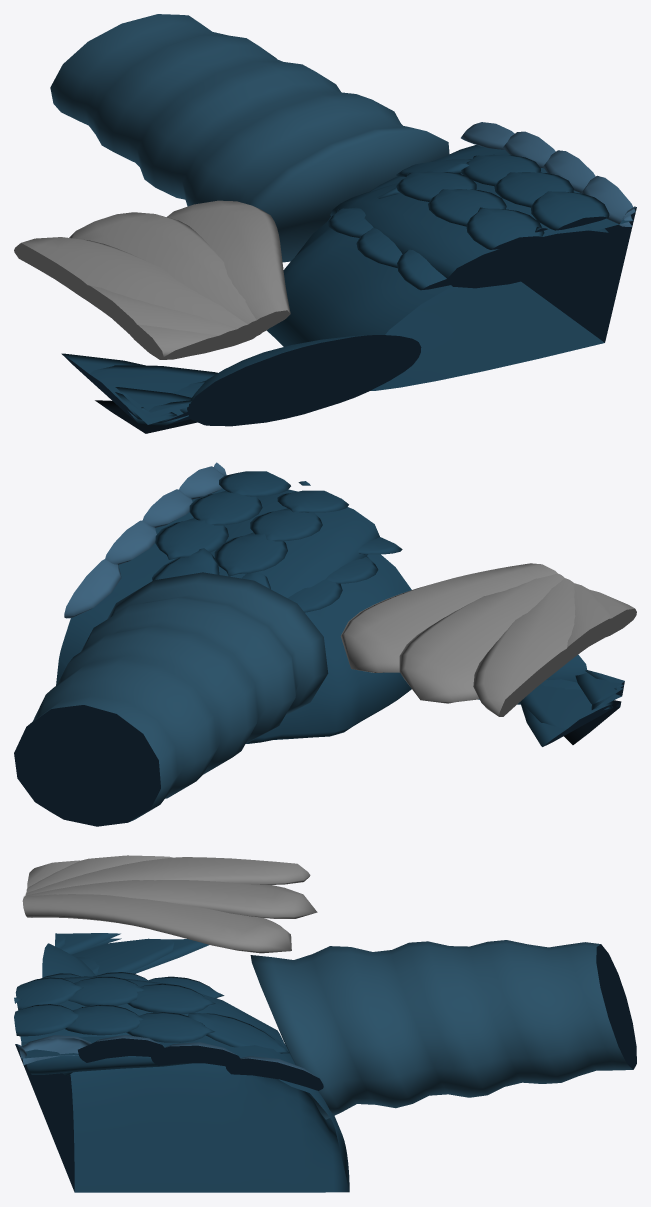
The model's file is gryphon_45.glb.
The picture shows the model from 3 angles, top to bottom: view 1: azimuth 30°, elevation 25°; view 2: azimuth 150°, elevation 25°; view 3: azimuth 270°, elevation 25°; orthographic projection. The views are drawn at different scales.
Visible parts, largest first — view 1: gryphon_45; view 2: gryphon_45; view 3: gryphon_45.
Boxes of the visible parts, box(x1,y1,x2,y2) form: gryphon_45: box(14, 14, 636, 433); gryphon_45: box(14, 462, 636, 826); gryphon_45: box(14, 855, 636, 1192).
Size of the model in its own units: 24 by 8.51 by 29.9.
